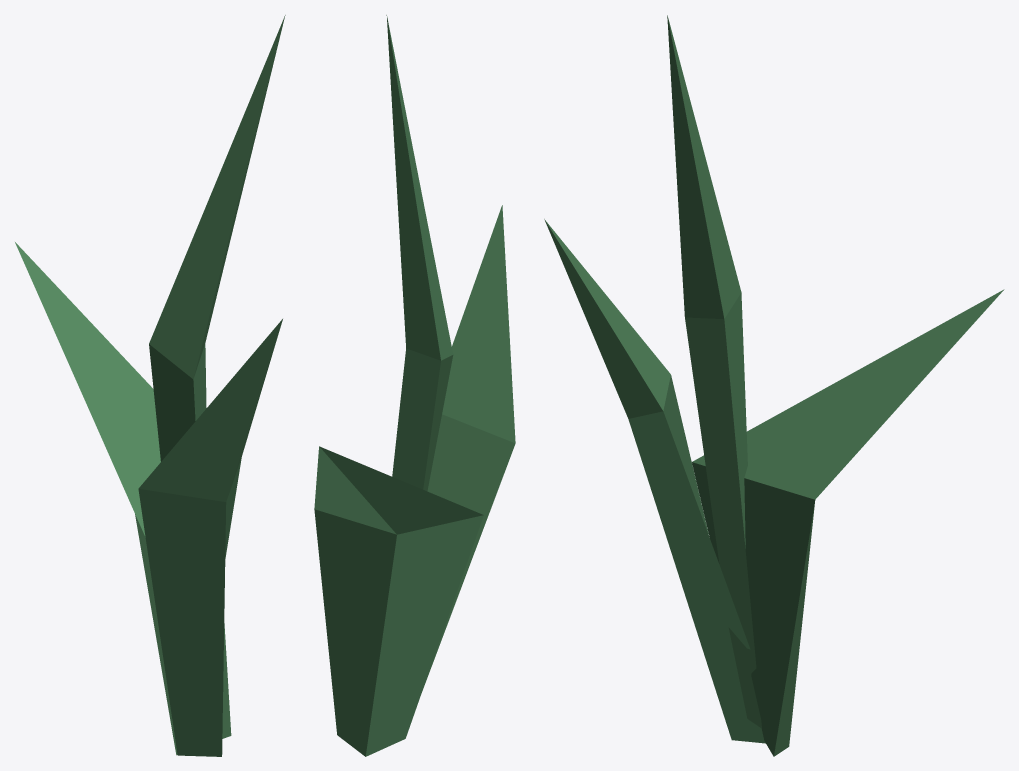
The model's file is msh_Grass02.fbx.
3 renders of one model, left to right at view 1: azimuth 30°, elevation 25°; view 2: azimuth 150°, elevation 25°; view 3: azimuth 270°, elevation 25°, orthographic. The views are drawn at different scales.
Visible parts, largest first — view 1: Cube.040, Cube.042, Cube.041; view 2: Cube.041, Cube.040, Cube.042; view 3: Cube.041, Cube.042, Cube.040.
Boxes of the visible parts, <box> form: Cube.040: <box>138,319,282,756</box>; Cube.042: <box>149,15,285,461</box>; Cube.041: <box>15,242,231,755</box>; Cube.041: <box>314,446,483,756</box>; Cube.040: <box>422,205,515,690</box>; Cube.042: <box>386,15,453,491</box>; Cube.041: <box>692,289,1004,756</box>; Cube.042: <box>667,15,761,728</box>; Cube.040: <box>544,219,765,743</box>.
Bounding box in the file's own units: 23.64 × 116 × 64.64.
